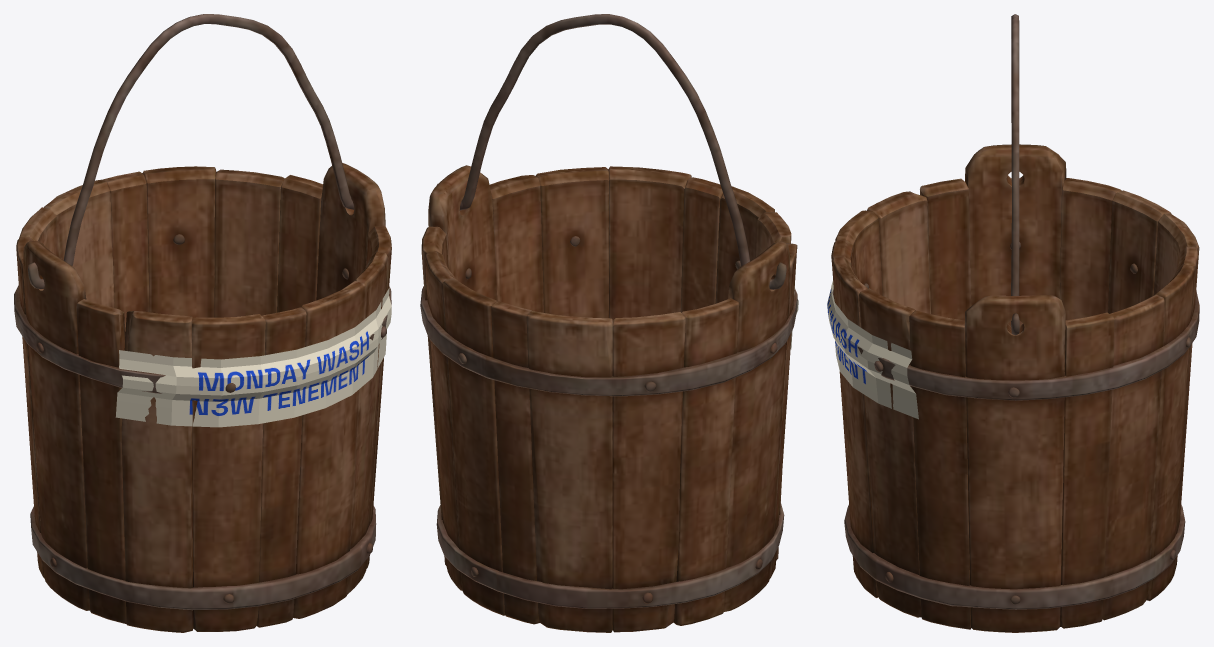
Rendered from nyb_treebrooklyn_tub.glb.
The picture shows the model from 3 angles, left to right: view 1: azimuth 30°, elevation 25°; view 2: azimuth 150°, elevation 25°; view 3: azimuth 270°, elevation 25°; orthographic projection.
Visible parts, largest first — view 1: wooden_bucket_01, stk_lbl_2c03ce6c8f.png; view 2: wooden_bucket_01; view 3: wooden_bucket_01, stk_lbl_2c03ce6c8f.png.
Part boxes in pixels (bbox=[...]): wooden_bucket_01: bbox=[14, 14, 391, 632]; stk_lbl_2c03ce6c8f.png: bbox=[115, 287, 391, 427]; wooden_bucket_01: bbox=[420, 14, 797, 632]; wooden_bucket_01: bbox=[831, 14, 1199, 632]; stk_lbl_2c03ce6c8f.png: bbox=[827, 280, 918, 419].
Bounding box in the file's own units: 0.367 × 0.5499 × 0.3441.
Materials: 2 (2 with a texture image).
